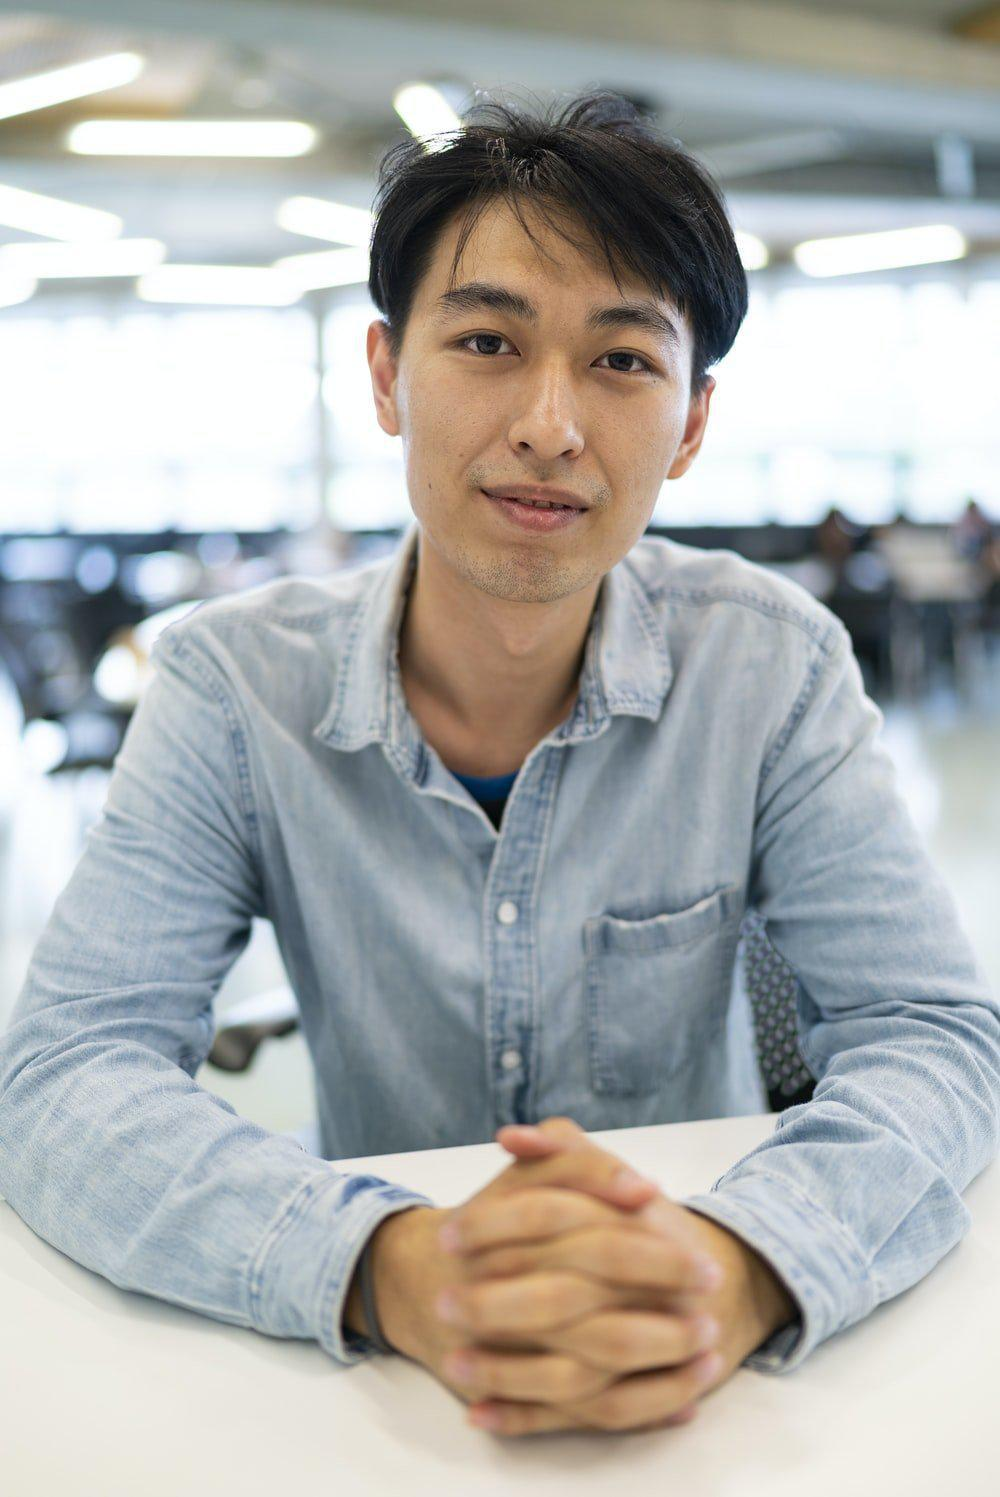Sober: (401, 221, 677, 580)
